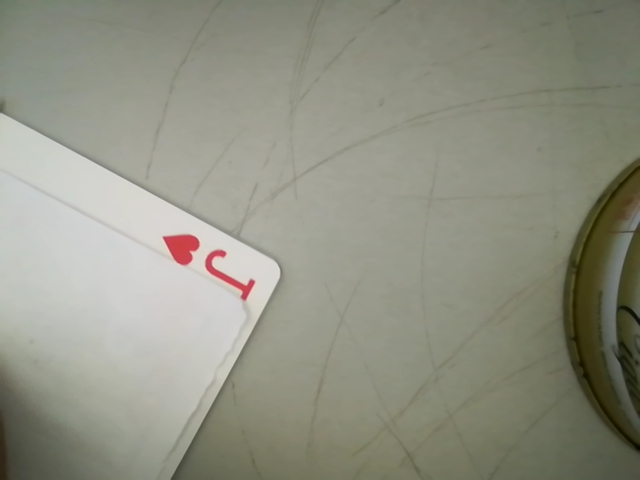hx j: (149, 225, 272, 302)
